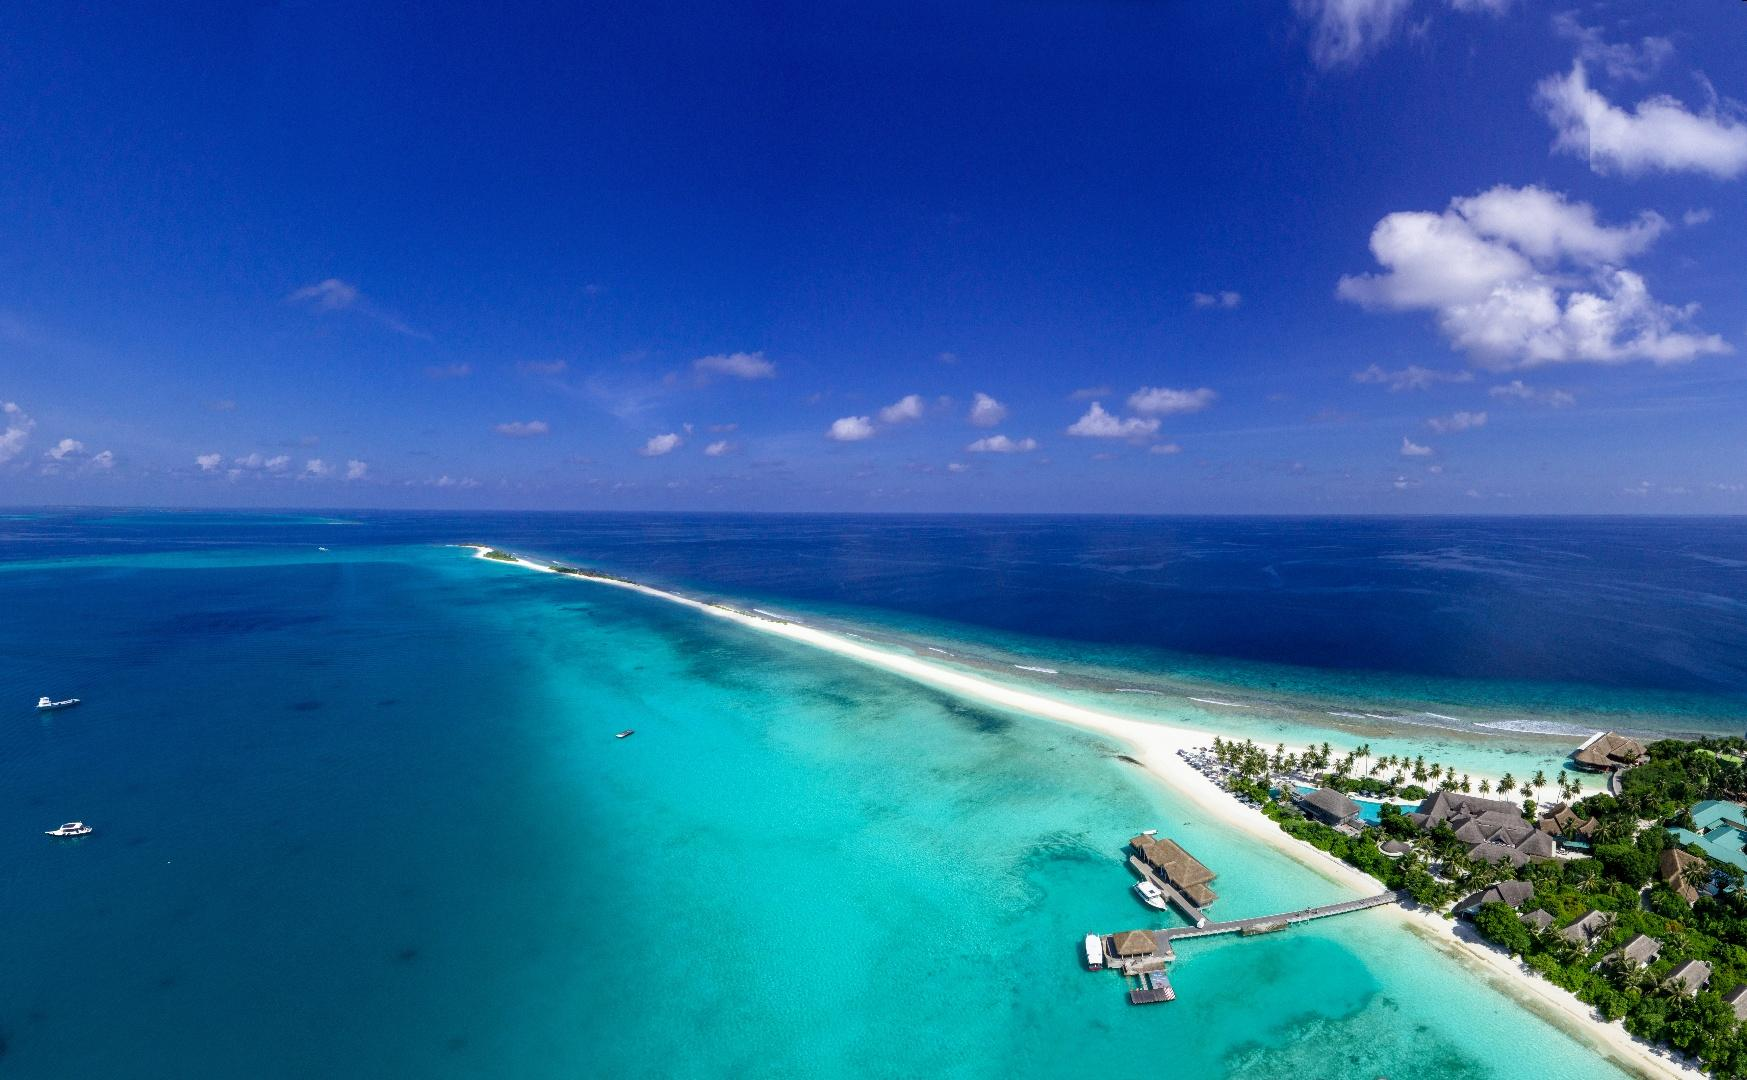penholder: (1131, 1069, 1747, 1080)
